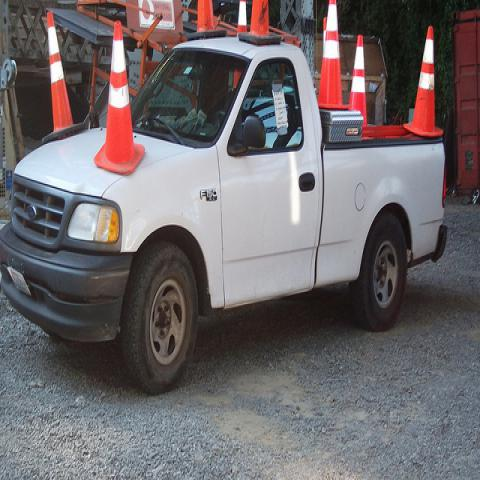truck: (0, 29, 449, 394)
